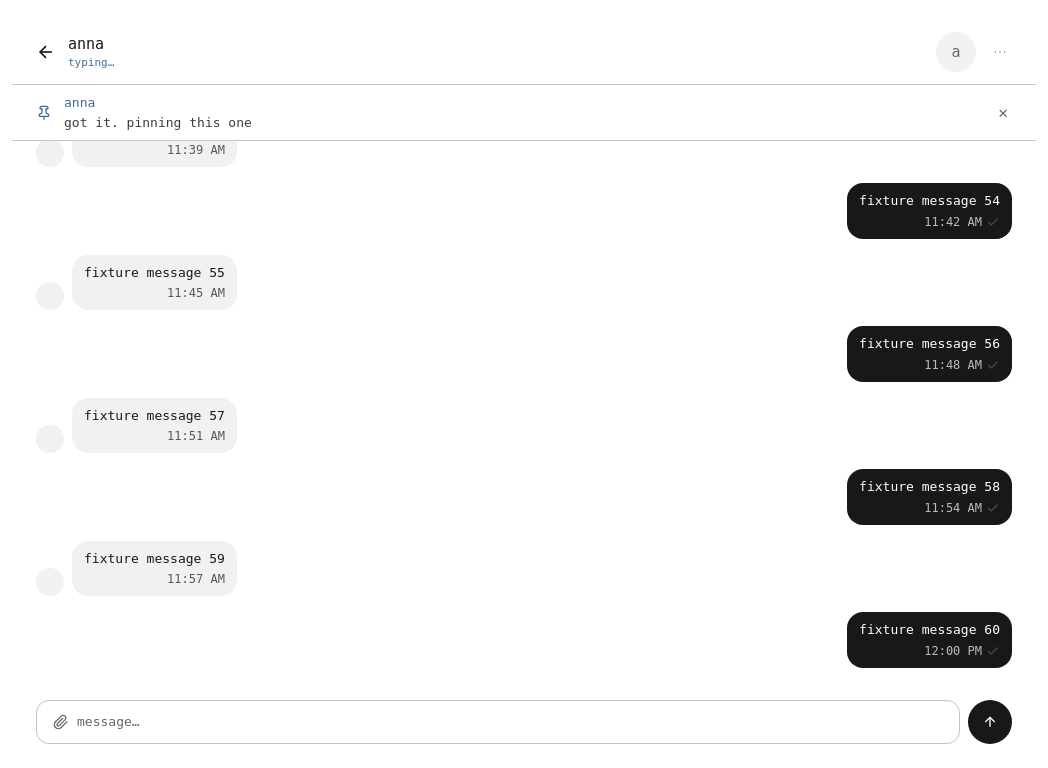
Test: S5 in-chat search › valid query with zero matches shows feedback instead of silence
The width and height of the screenshot is (1048, 768).
(page scrolled)
Click the button named "chat menu".
click(1000, 52)  # box [988,40,1012,64]
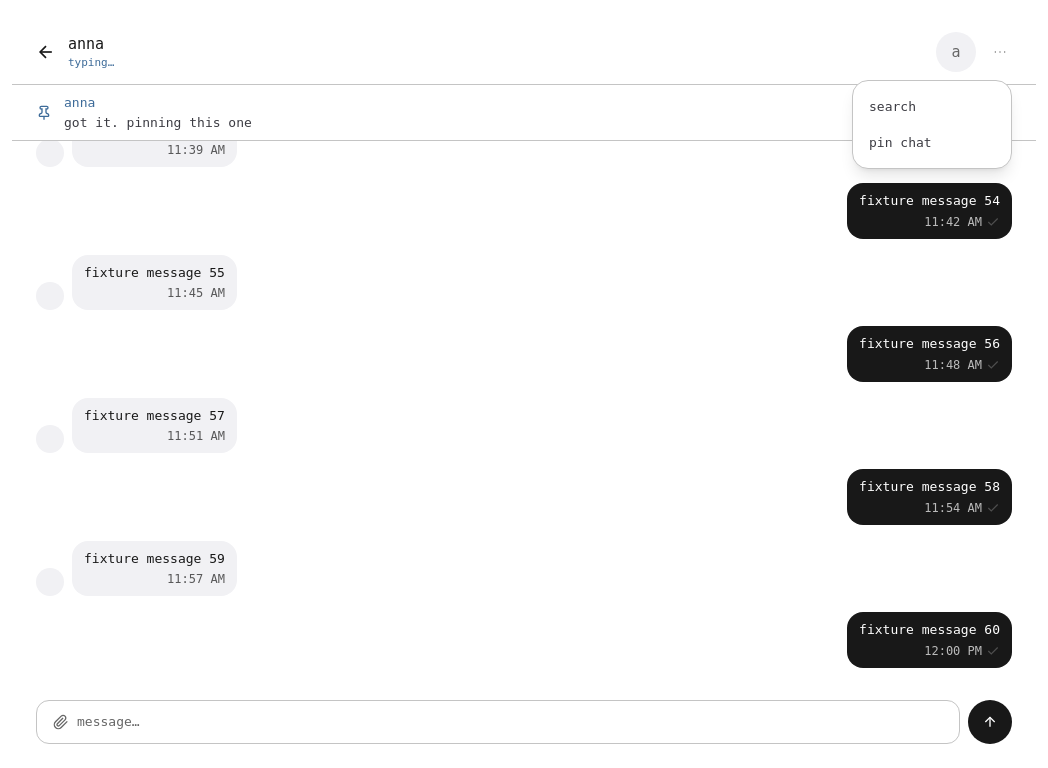
Click the button "search".
click(932, 107)  # box [853,89,1011,124]
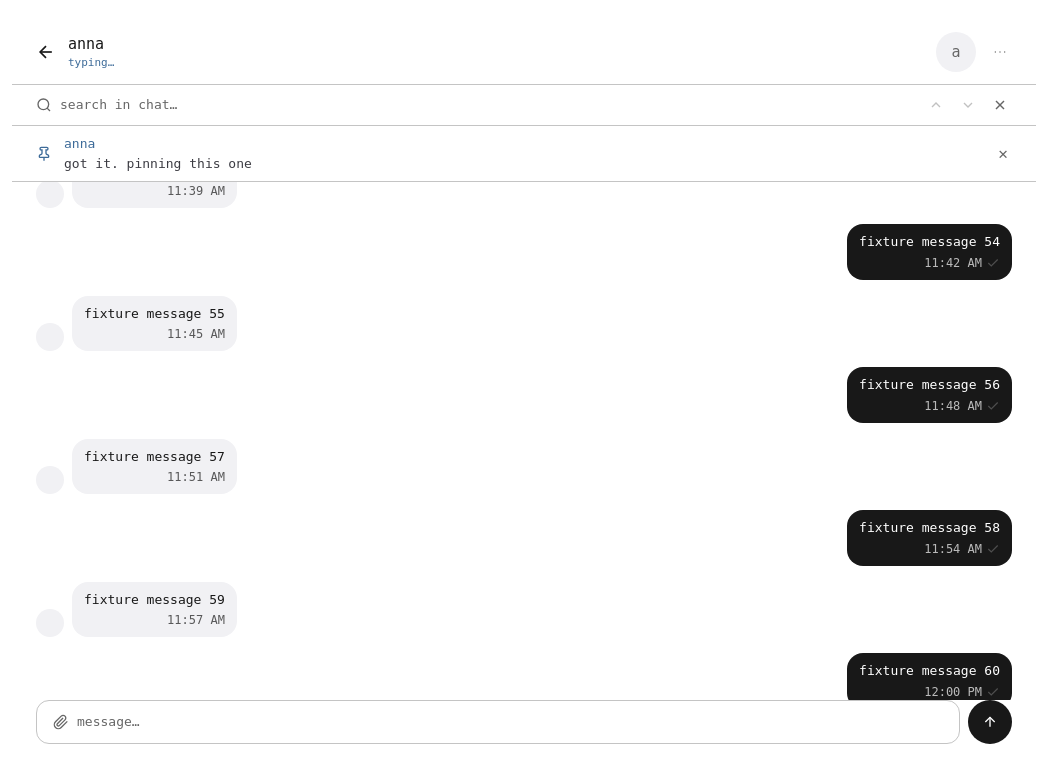
Type "zzz-no-match" into the field with test id "search-input".
click(488, 105); type("zzz-no-match")  # box [60,95,916,115]
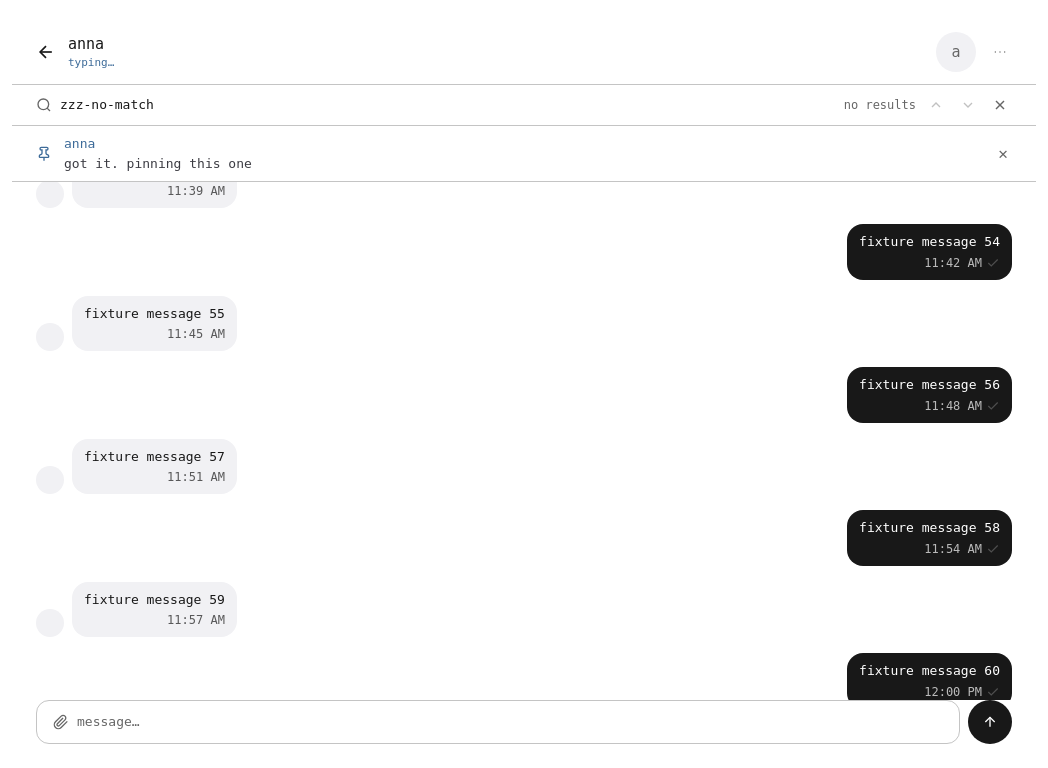
Expected: the text with test id "search-empty" reads "no results", [844,98,916,112]
